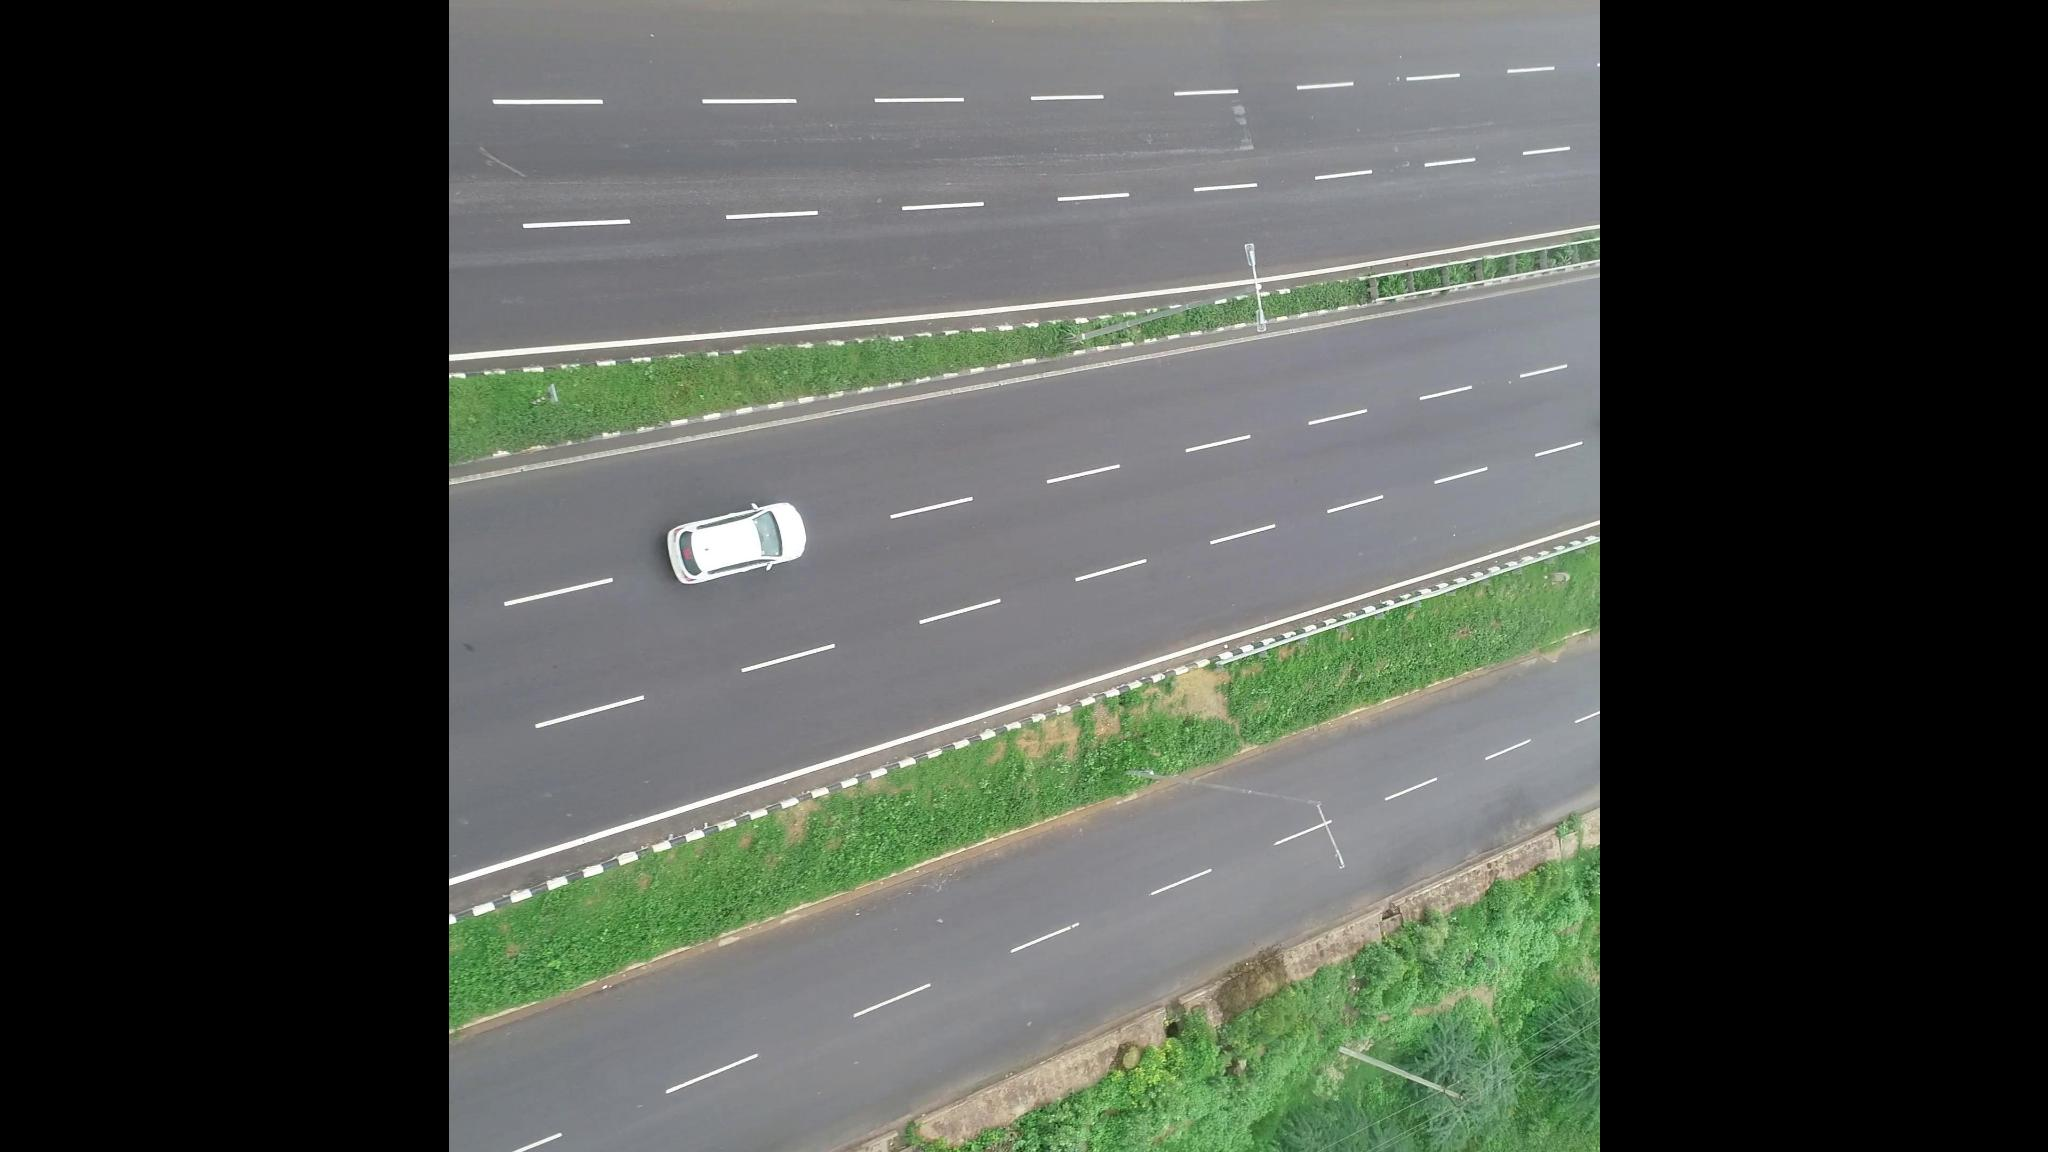Ravelling: (945, 129, 1222, 181), (736, 115, 949, 156)
